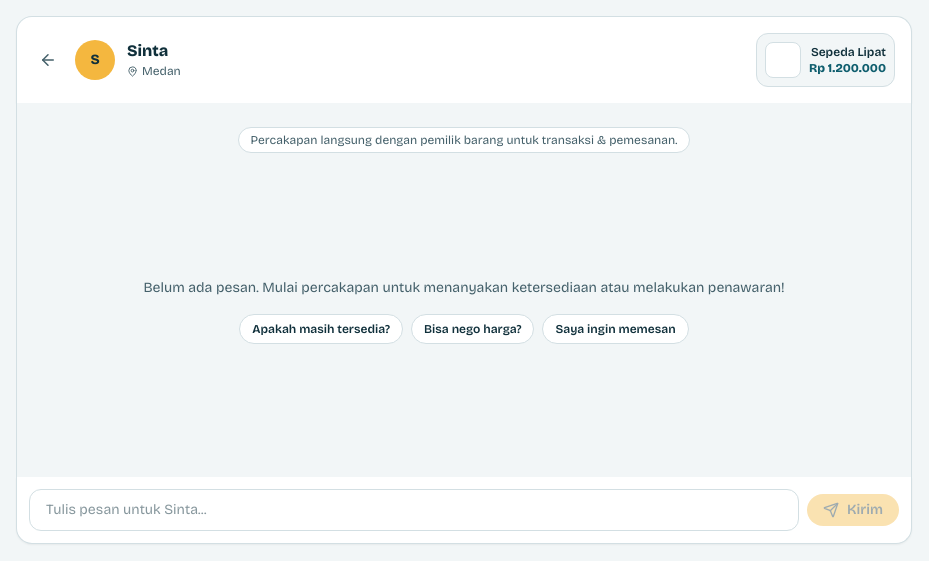
Test case: ChatPage › tamu mengetik pesan lewat formulir dengan nama 'Saya'
This screenshot has width=929, height=561.
Type "Halo" into the field named "Tulis pesan chat" at (414, 510), box [29,489,799,531]
Then press Enter
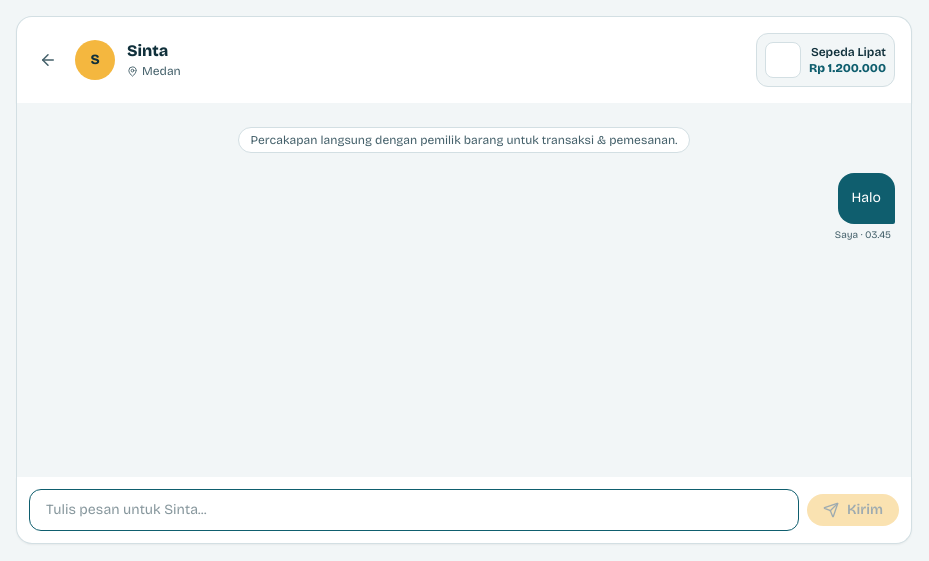
Now the text "Saya · 03.45" is shown, box [831,228,895,243]
